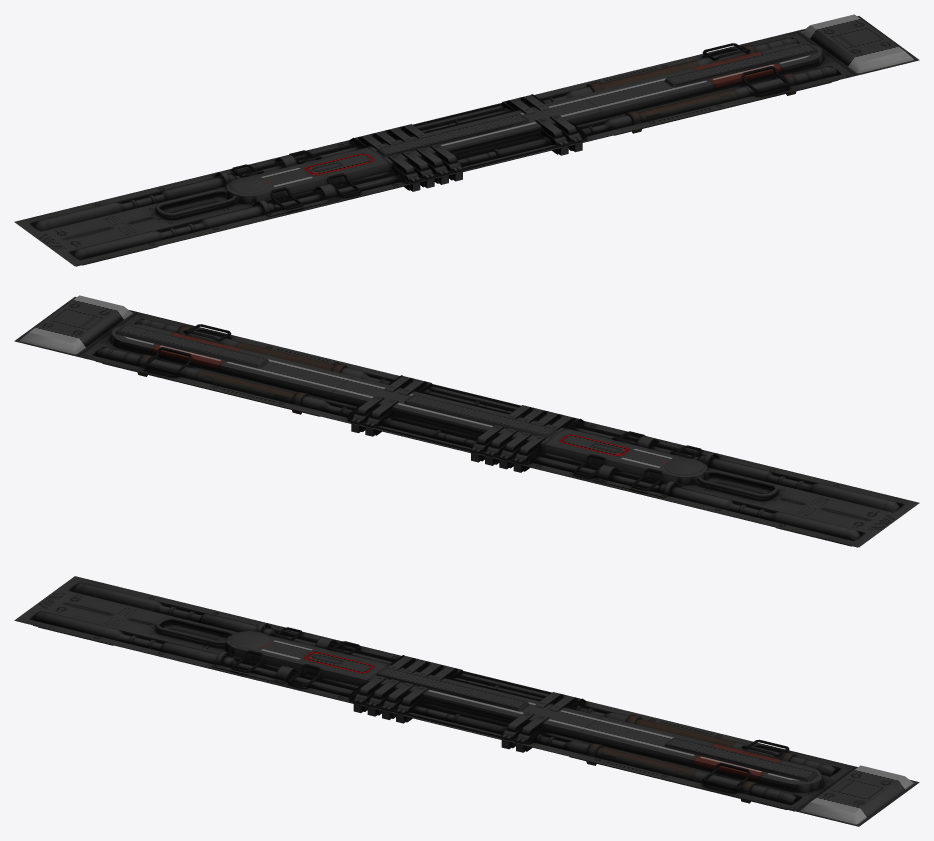
File: Panel_A_4x05.FBX
3 views of the same model, one above another, from view 1: azimuth 30°, elevation 25°; view 2: azimuth 150°, elevation 25°; view 3: azimuth 330°, elevation 25° (orthographic).
Parts seen in each view (by area): view 1: Panel_A_4x05; view 2: Panel_A_4x05; view 3: Panel_A_4x05.
Part boxes in pixels (x1=…): Panel_A_4x05: x1=14, y1=14, x2=919, y2=266; Panel_A_4x05: x1=14, y1=295, x2=919, y2=547; Panel_A_4x05: x1=14, y1=576, x2=919, y2=826.
Size of the model in its own units: 400 by 10.34 by 49.97.
